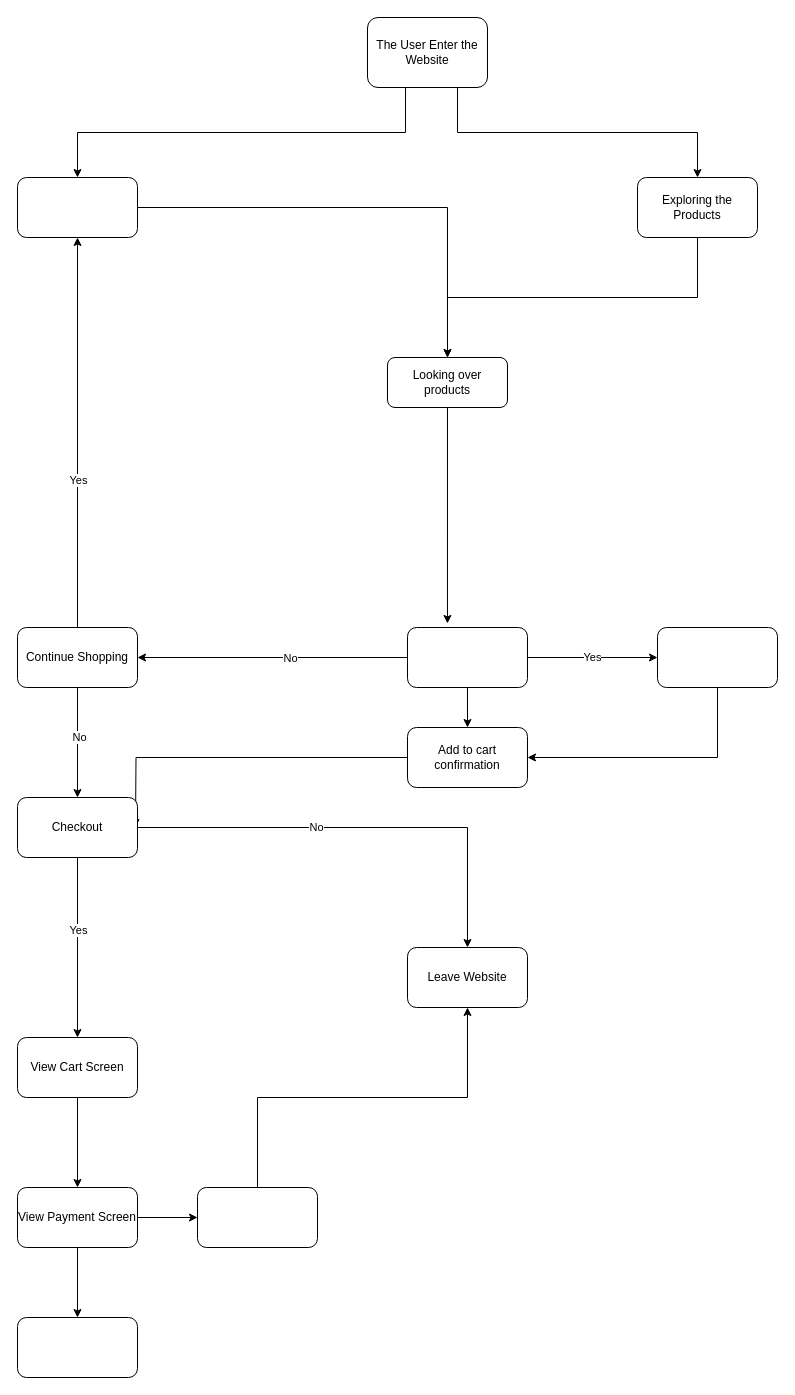
This 795x1395 diagram has some shape labels left out. Here are the shapes that lost their labels. From the top down, the centre of each, then its label:
At pixel 77 207: "Search the Product".
At pixel 467 657: "Option of viewing a specific product".
At pixel 717 657: "Product webpage will be open".
At pixel 257 1217: "Order Confirmation Screen".
At pixel 77 1347: "Order Confirmation Email".
